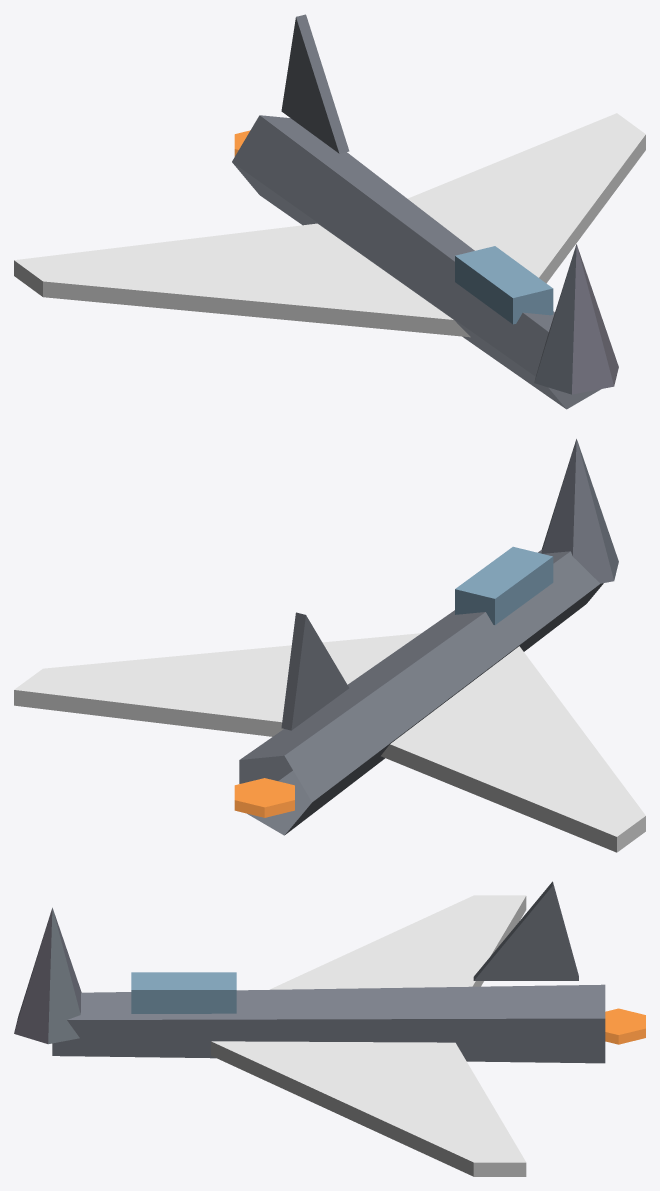
Rendered from Jet Fighter.glb.
3 views of the same model, one above another, from view 1: azimuth 30°, elevation 25°; view 2: azimuth 150°, elevation 25°; view 3: azimuth 270°, elevation 25° (orthographic). The views are drawn at different scales.
Visible parts, largest first — view 1: Units_Jet Fighter; view 2: Units_Jet Fighter; view 3: Units_Jet Fighter.
Boxes of the visible parts, x1,y1,x2,y2 form: Units_Jet Fighter: (14,14,645,409); Units_Jet Fighter: (14,439,645,852); Units_Jet Fighter: (14,881,645,1176).
Size of the model in its own units: 0.24 by 0.0752 by 0.24.
